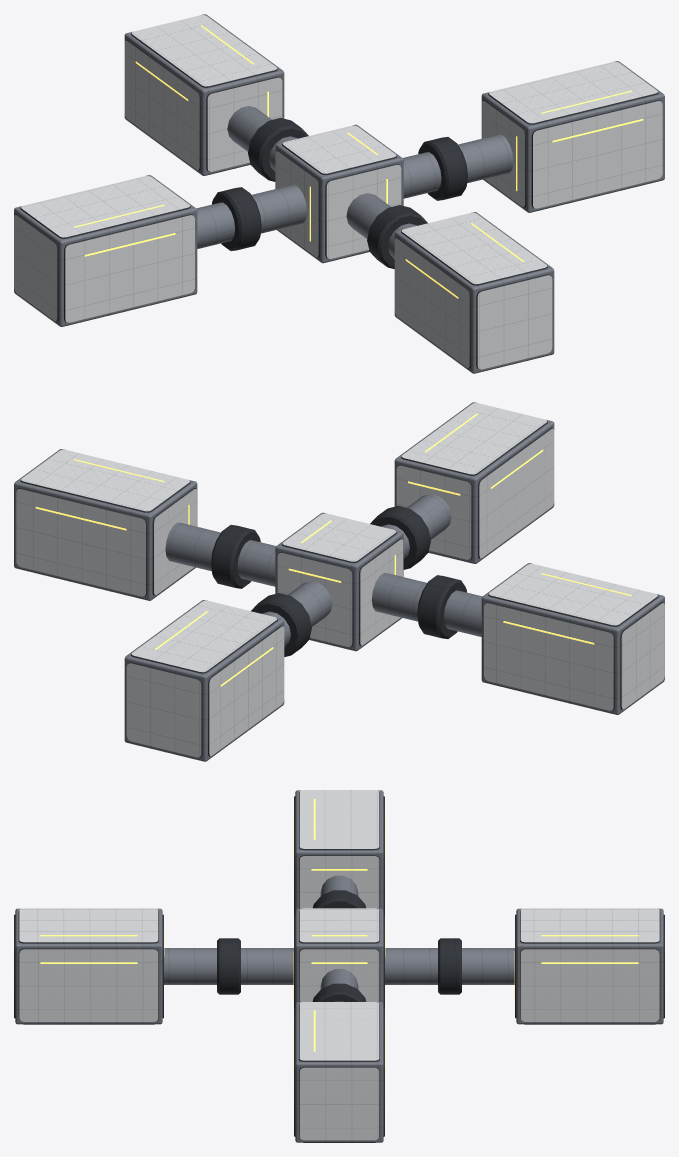
Rendered from R4C_ROD_PLUS.glb.
3 renders of one model, top to bottom at view 1: azimuth 30°, elevation 25°; view 2: azimuth 150°, elevation 25°; view 3: azimuth 270°, elevation 25°, orthographic. The views are drawn at different scales.
Parts seen in each view (by area): view 1: R4C_ROD_PLUS; view 2: R4C_ROD_PLUS; view 3: R4C_ROD_PLUS.
Part boxes in pixels (left/top/right/bottom): R4C_ROD_PLUS: left=14, top=14, right=664, bottom=373; R4C_ROD_PLUS: left=14, top=402, right=664, bottom=761; R4C_ROD_PLUS: left=14, top=790, right=664, bottom=1142.
Size of the model in its own units: 1.62 by 0.2284 by 1.62.
4 materials, 3 textured.
